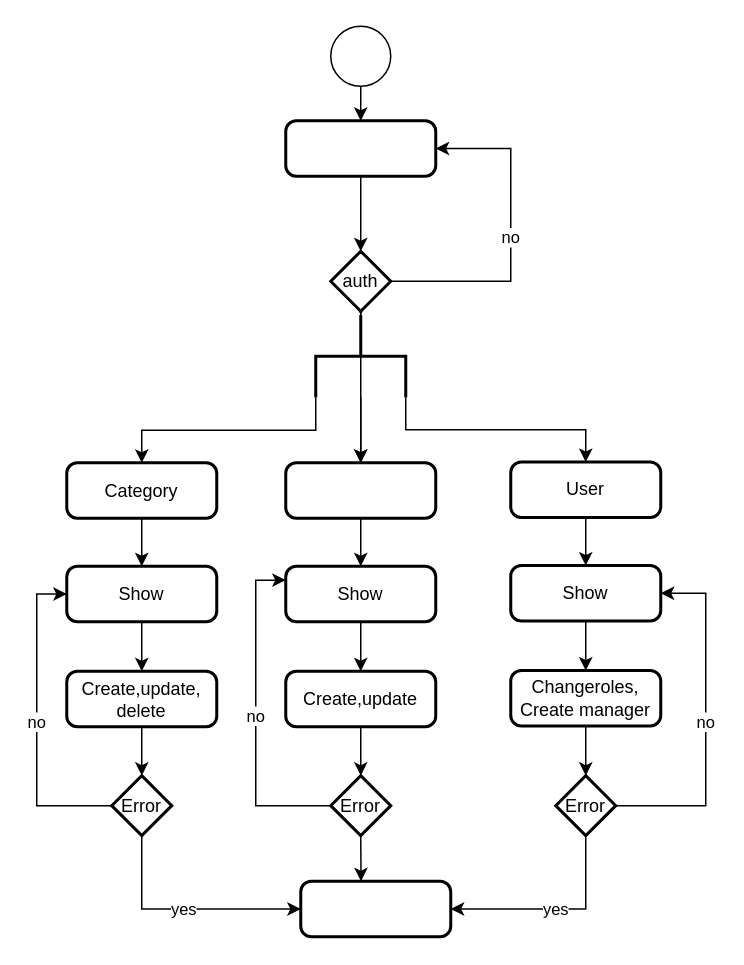
The diagram is 744 pixels wide and 965 high, and some of its shapes have lost their labels. Here are the shapes that lost their labels. From the top down, the box of each, then its label:
(284, 118, 436, 177): Login
(284, 460, 436, 519): Restaurant
(298, 879, 452, 938): Send Fail
